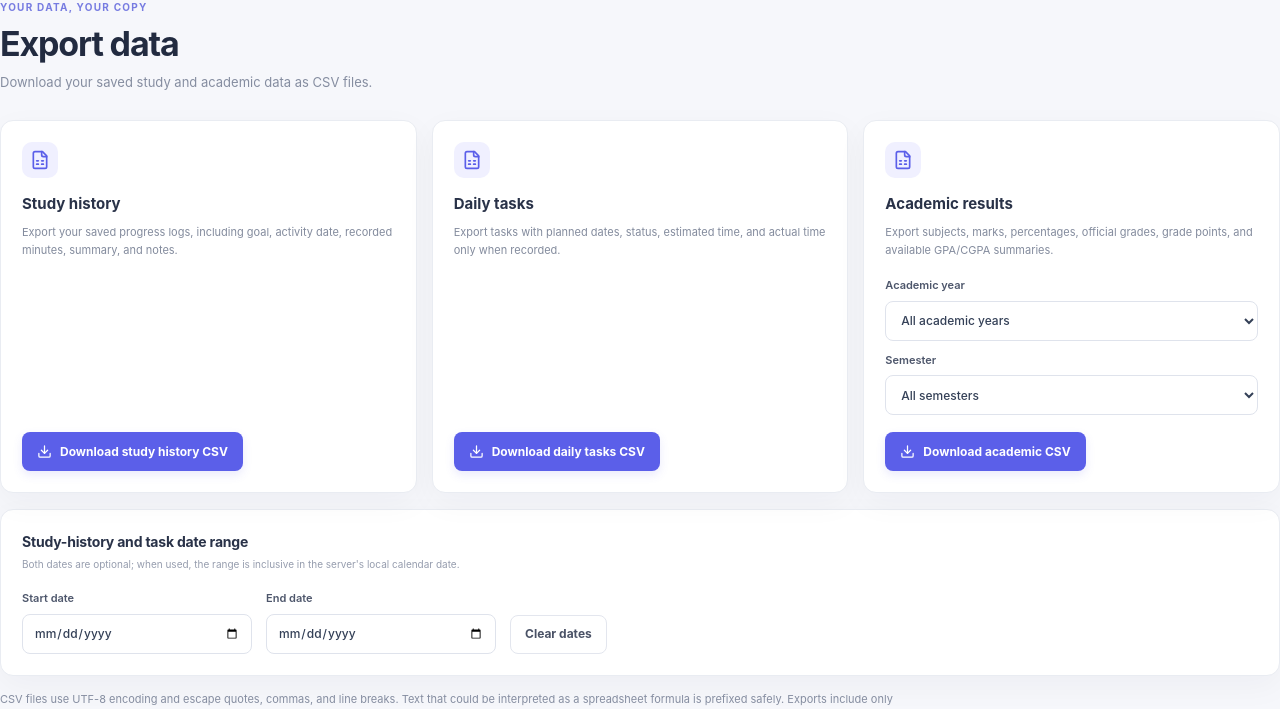
it: exports page › rejects partial or reversed date ranges before making an export request
Type "2026-04-12" into the date field named "Export start date" at x=137, y=634, box [22,614,252,654]
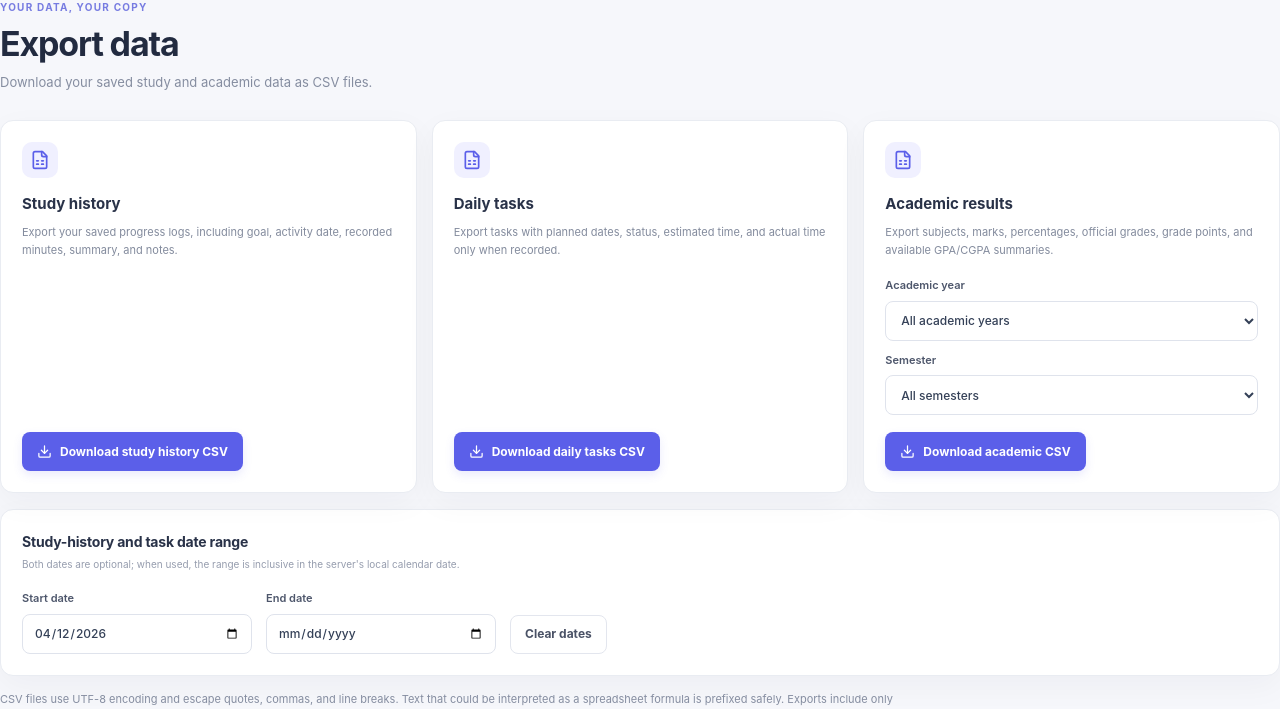
Type "2026-04-10" into the date field named "Export end date" at x=381, y=634, box [266,614,496,654]
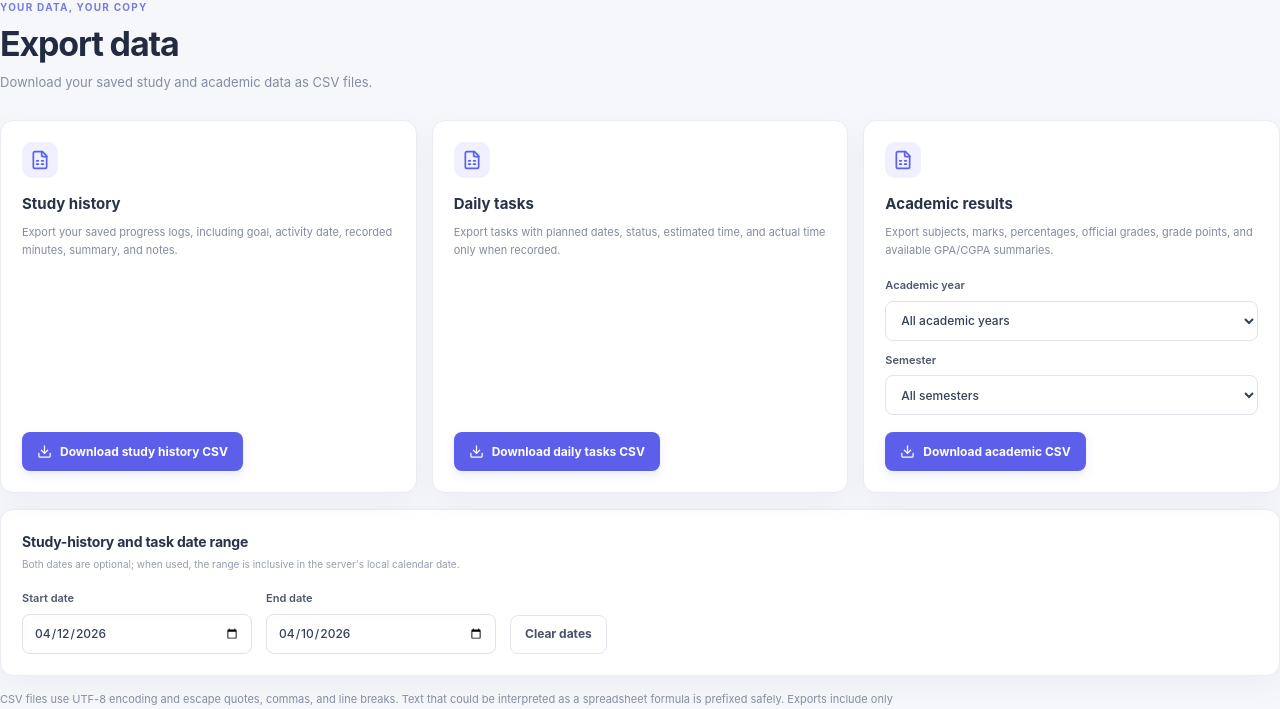
Click the button "Download daily tasks CSV" at x=557, y=452, box [454,432,660,471]
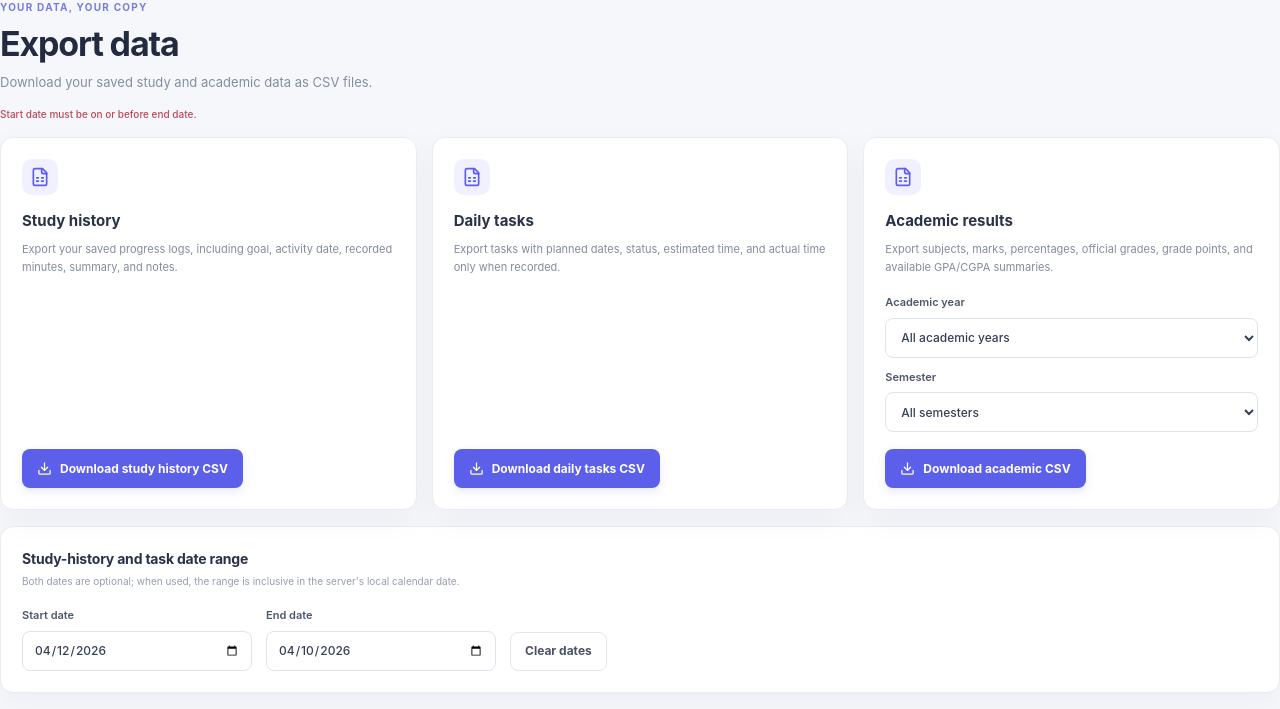
Expected: the message reads "Start date must be on or before end date.", [0,108,196,120]
